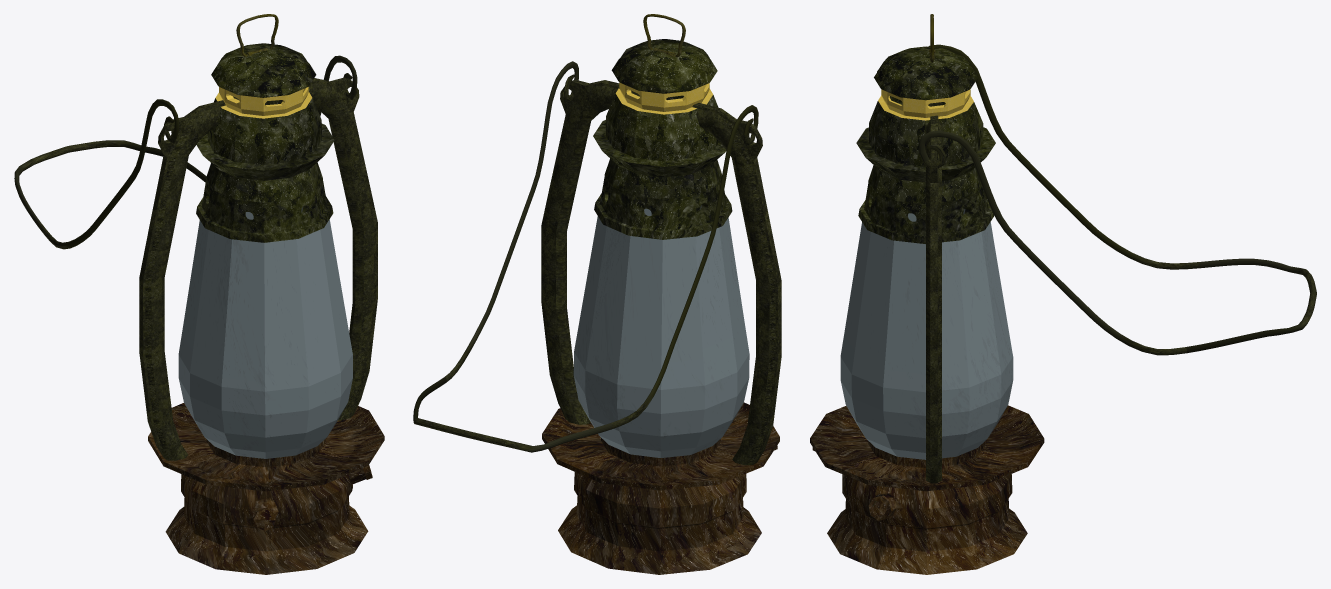
File: Lantern(Glass  material).glb
3 views of the same model, side by side, from view 1: azimuth 30°, elevation 25°; view 2: azimuth 150°, elevation 25°; view 3: azimuth 270°, elevation 25° (orthographic).
Visible parts, largest first — view 1: Lantern; view 2: Lantern; view 3: Lantern.
Part boxes in pixels (<box>): Lantern: <box>14,14,384,574</box>; Lantern: <box>413,14,781,574</box>; Lantern: <box>810,14,1316,574</box>.
Size of the model in its own units: 1.58 by 3.32 by 2.98.
Materials: 6 (6 with a texture image).
